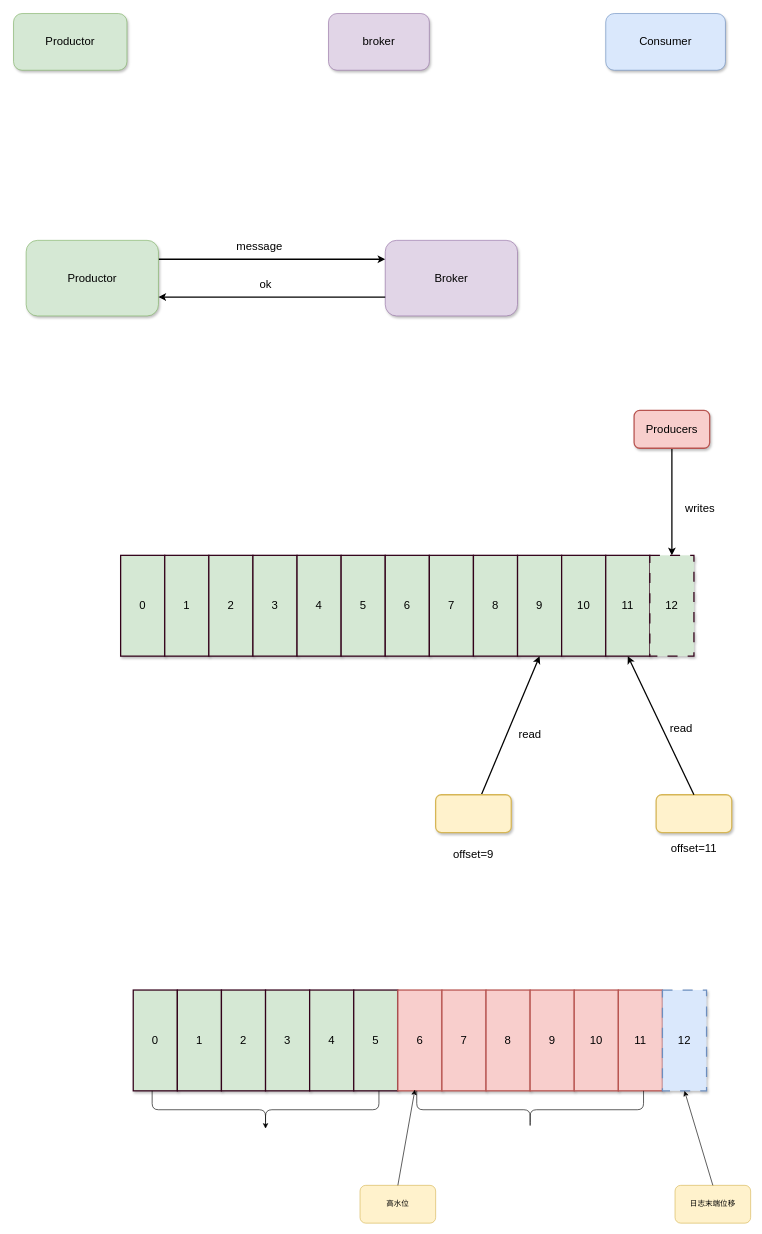
Some shapes in this 762 by 1234 pixel diagram are drawn without their labels. The shapes that lost their labels are listed below. From the top down, each one's centre as x and y in pixels, then its label:
At point (473, 814): "ConsumerA".
At point (694, 814): "ConsumerB".
At point (265, 1109): "已经提交消息".
At point (530, 1109): "未提交消息".
